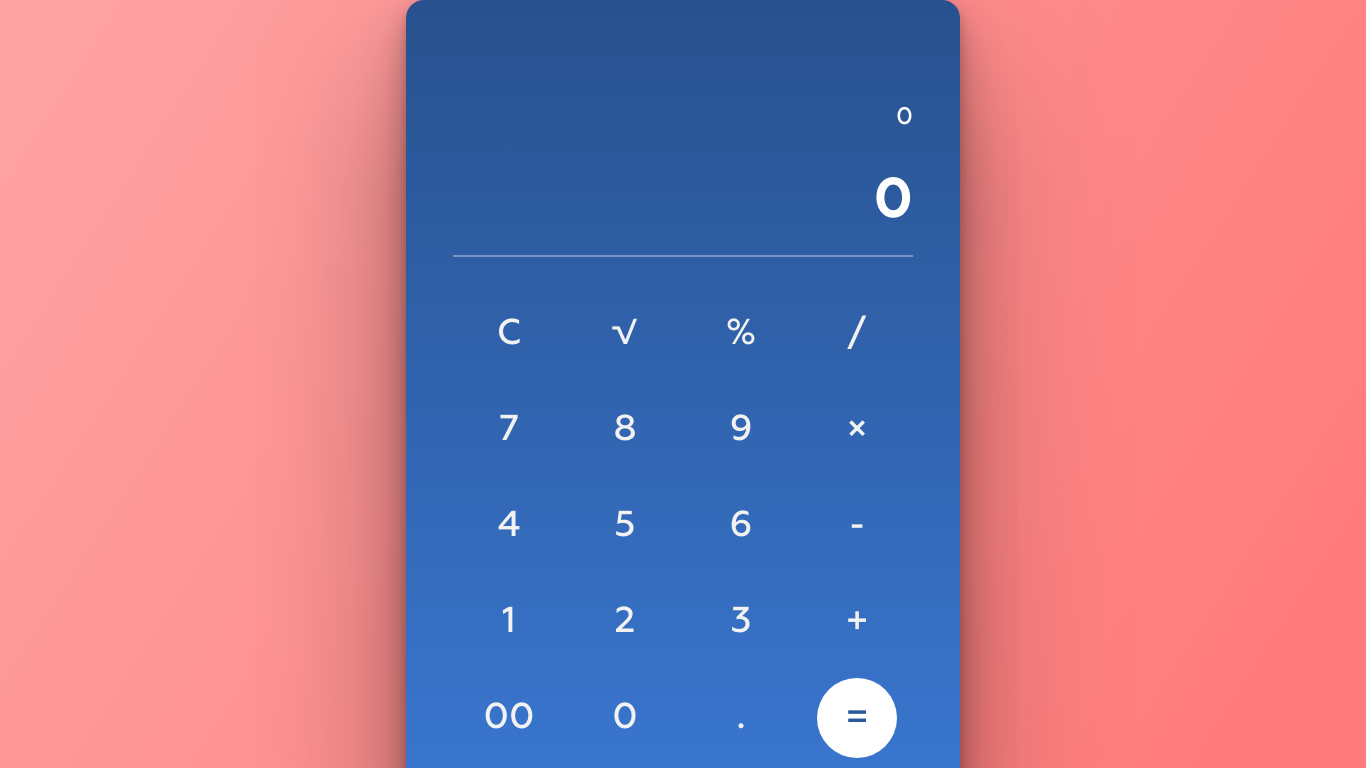
Basic Math Operations › should calc subtraction
Click the button "4": (509,526) left=469, top=486, right=549, bottom=566
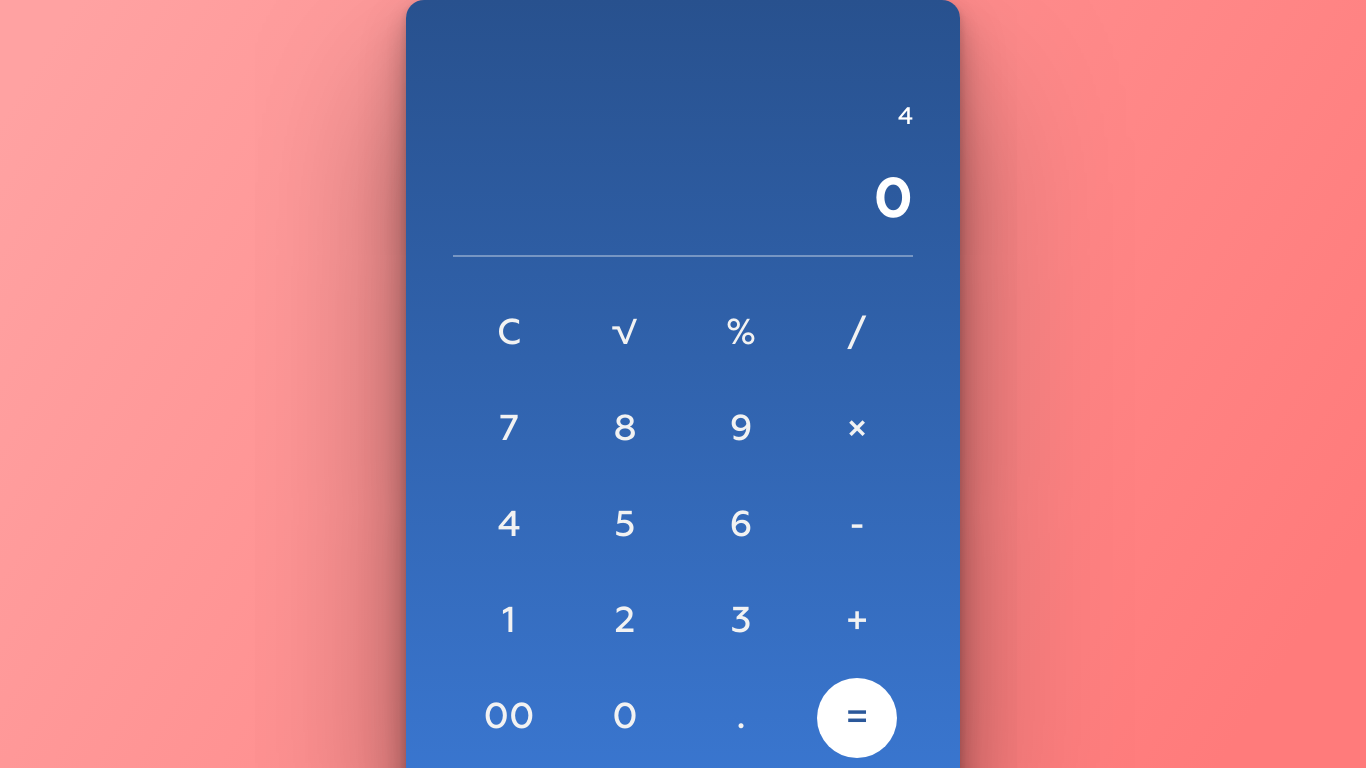
Click the button "-": (857,526) left=817, top=486, right=897, bottom=566
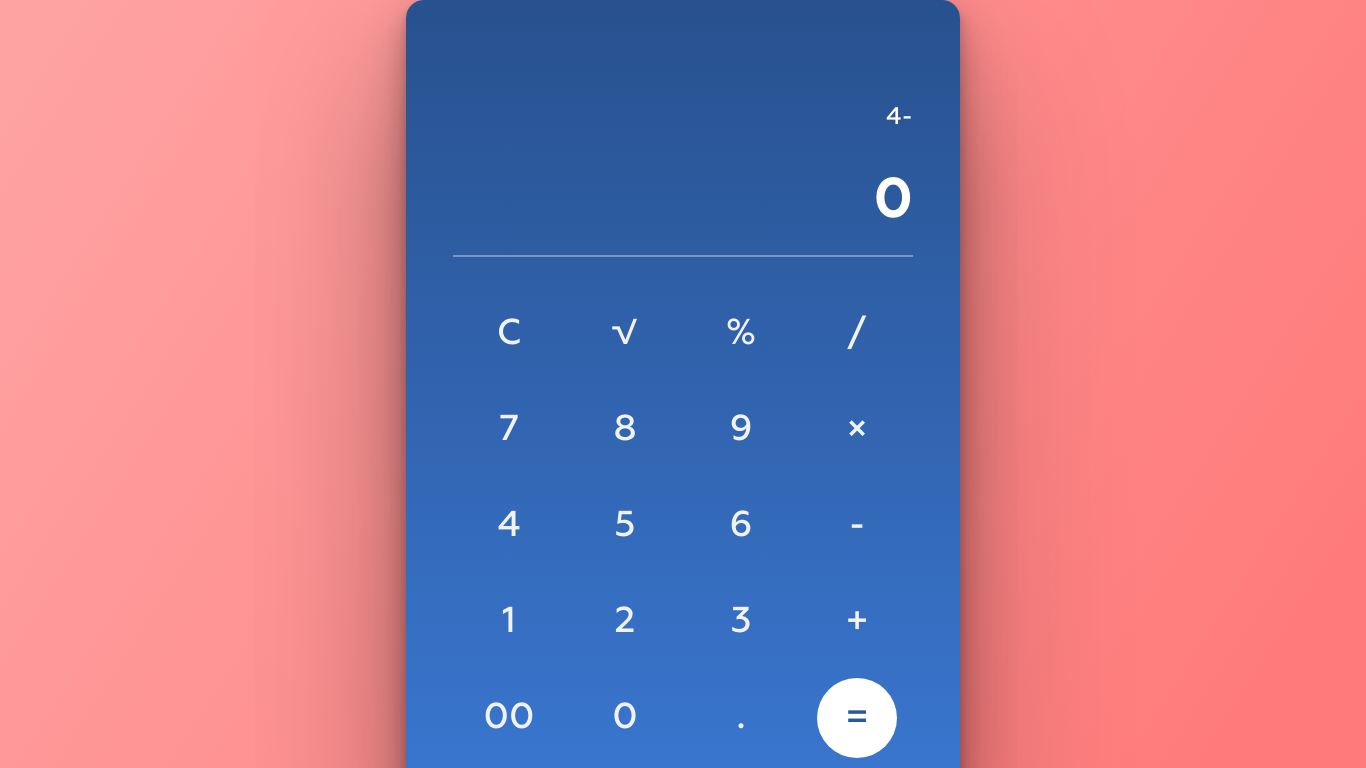
Click the button "2": (625,622) left=585, top=582, right=665, bottom=662
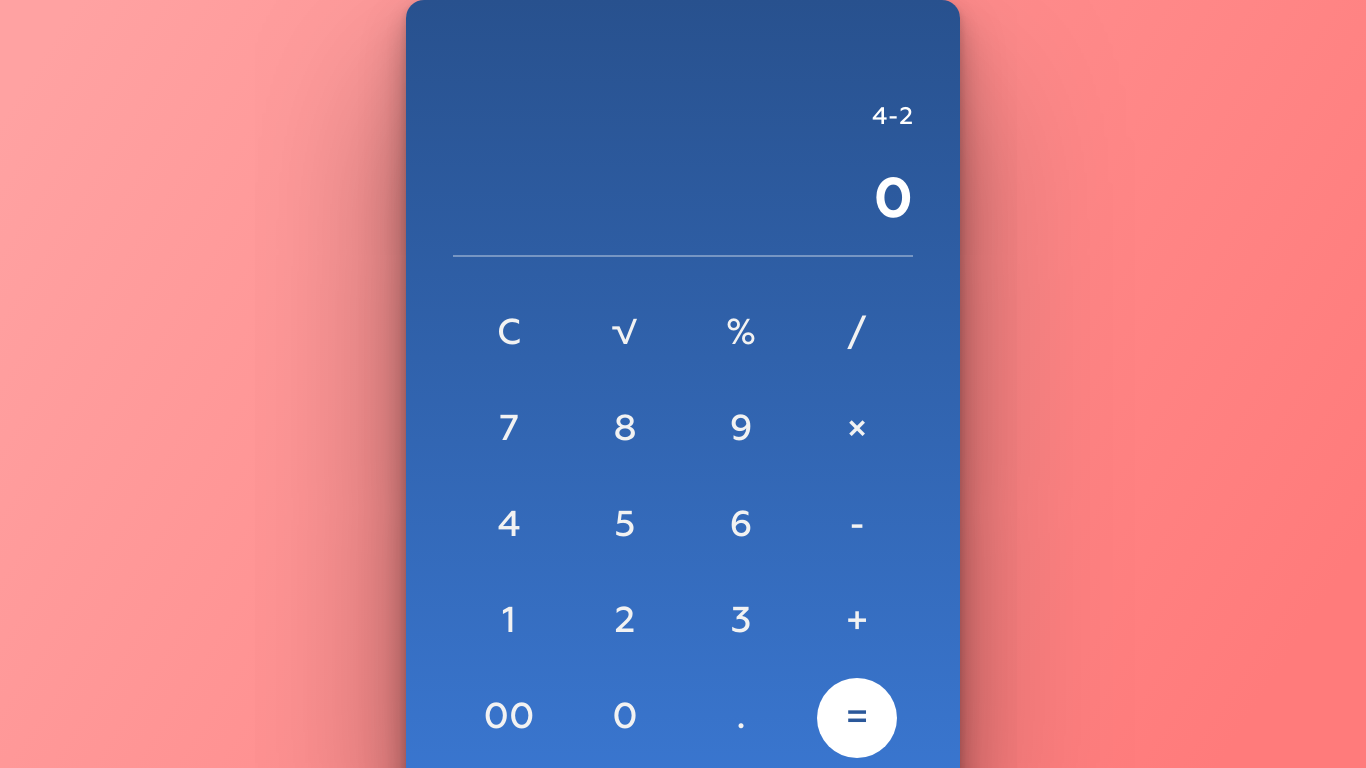
Click the button "=": (857,718) left=817, top=678, right=897, bottom=758
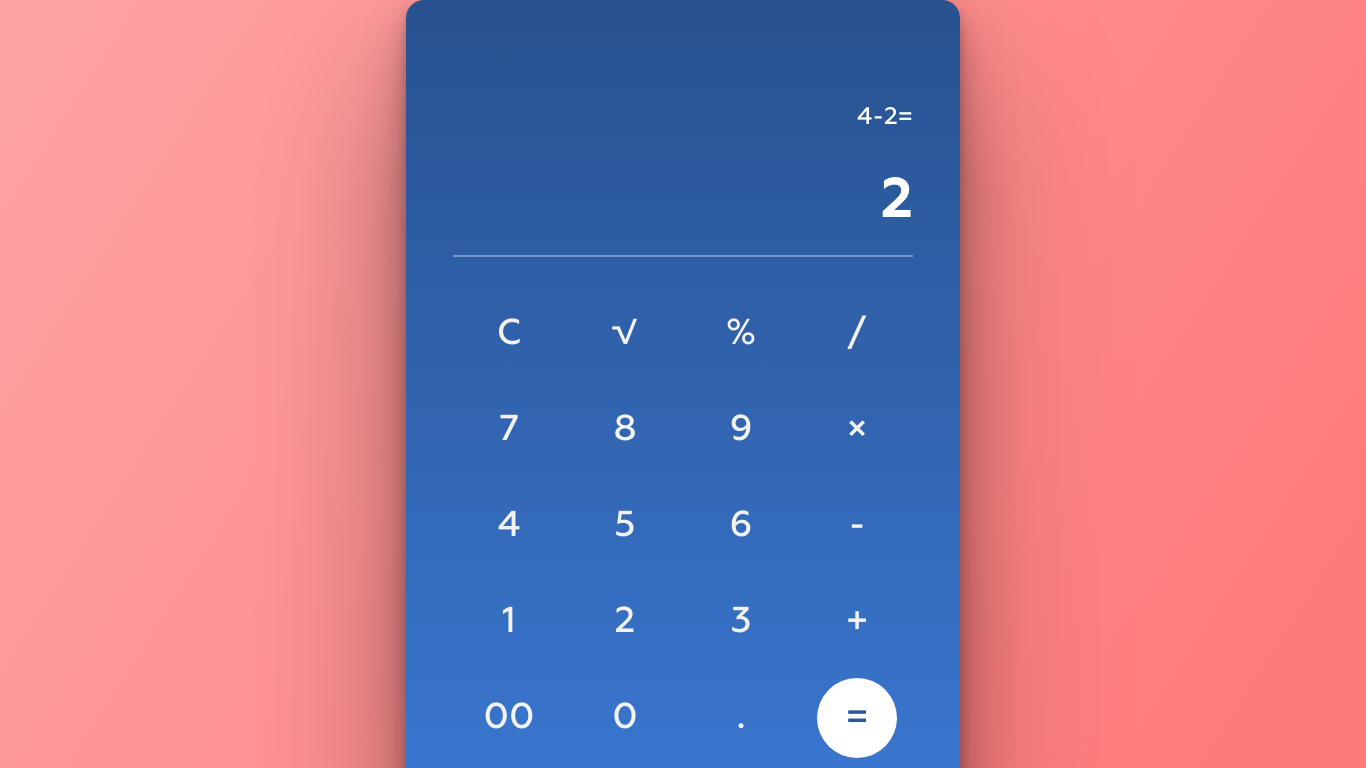
Now the text "2" is shown, box left=881, top=173, right=913, bottom=229
